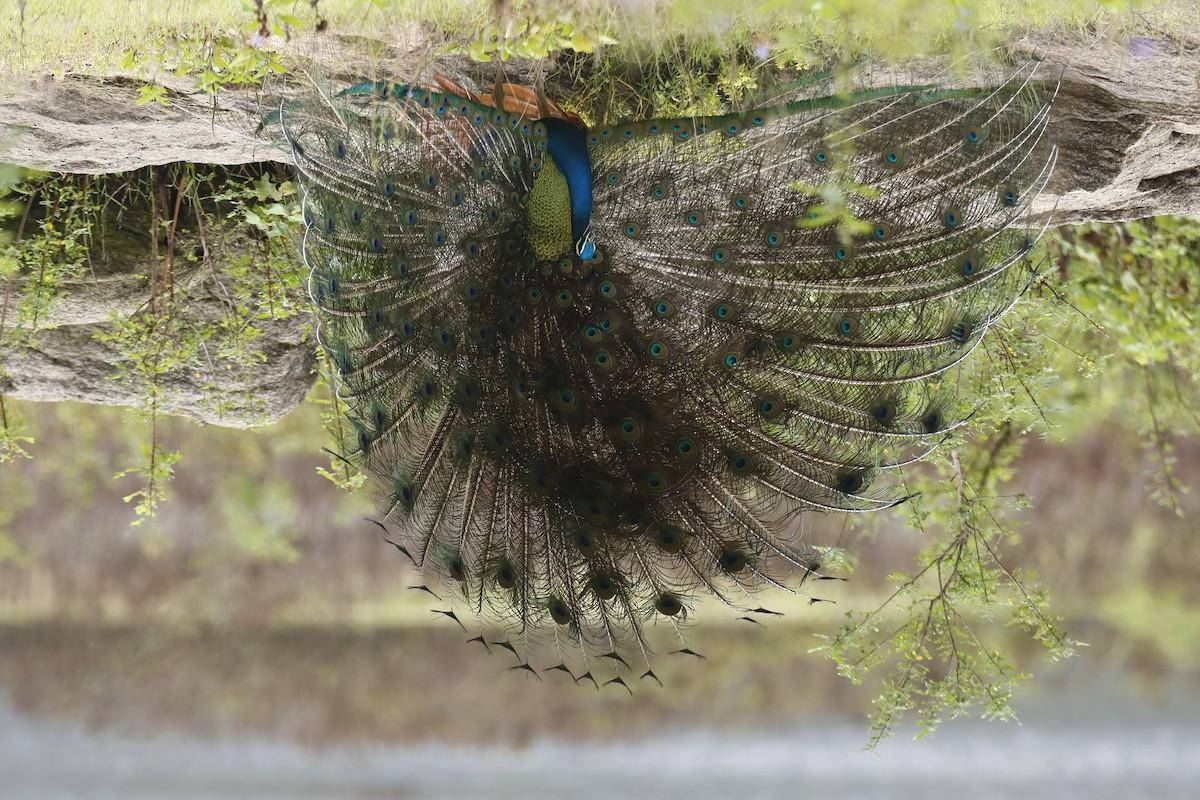peacock: (269, 58, 1071, 630)
